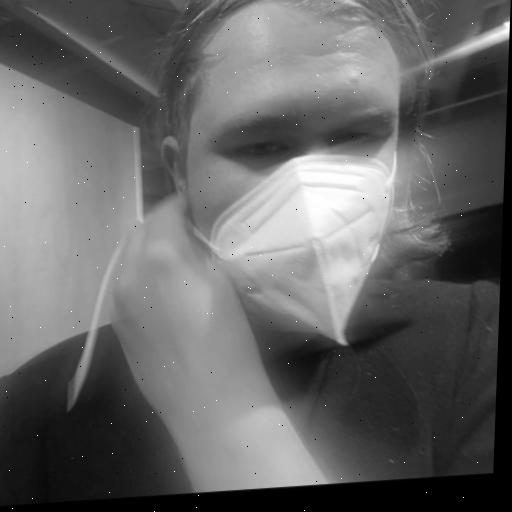mask: (151, 0, 444, 351)
